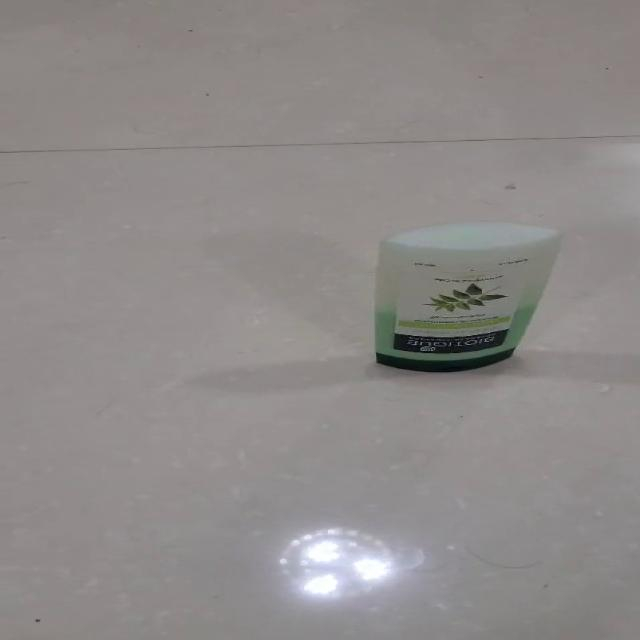plastic: (371, 219, 562, 372)
